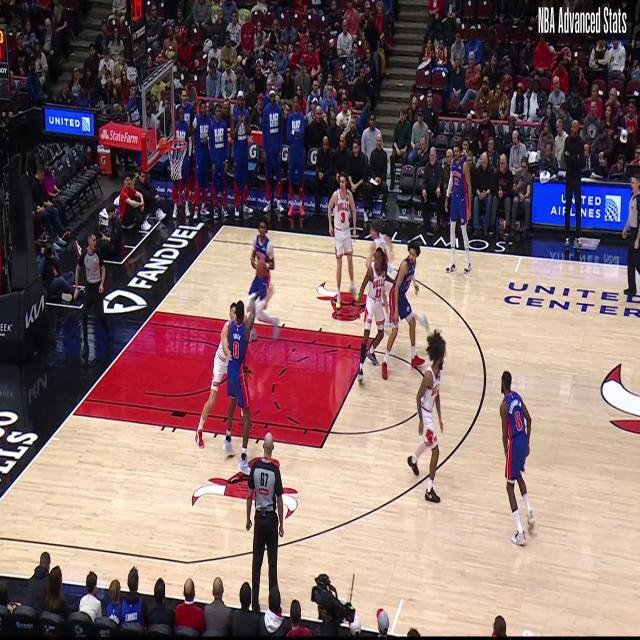ball: (255, 250, 270, 286)
player: (406, 327, 447, 505), (196, 292, 242, 449), (380, 239, 430, 381), (498, 368, 536, 548), (226, 286, 258, 482), (354, 245, 398, 385), (368, 216, 414, 326), (326, 169, 359, 314), (244, 217, 280, 343), (444, 134, 474, 284)
